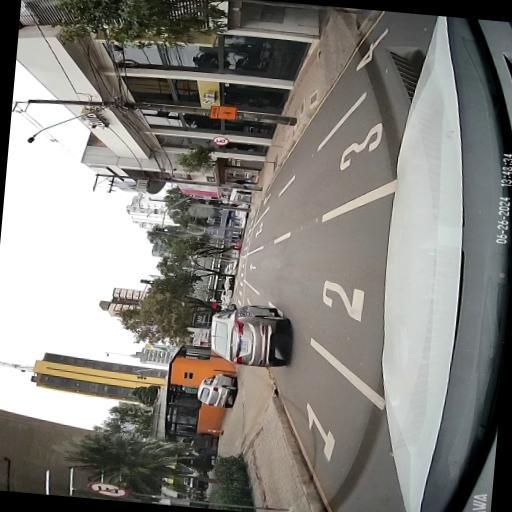R-6a: (86, 480, 130, 498), (212, 136, 230, 145)
